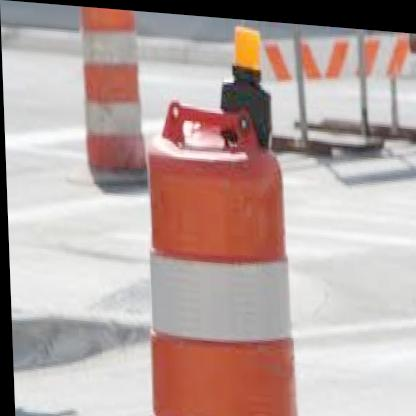obstacle: (134, 91, 302, 416)
